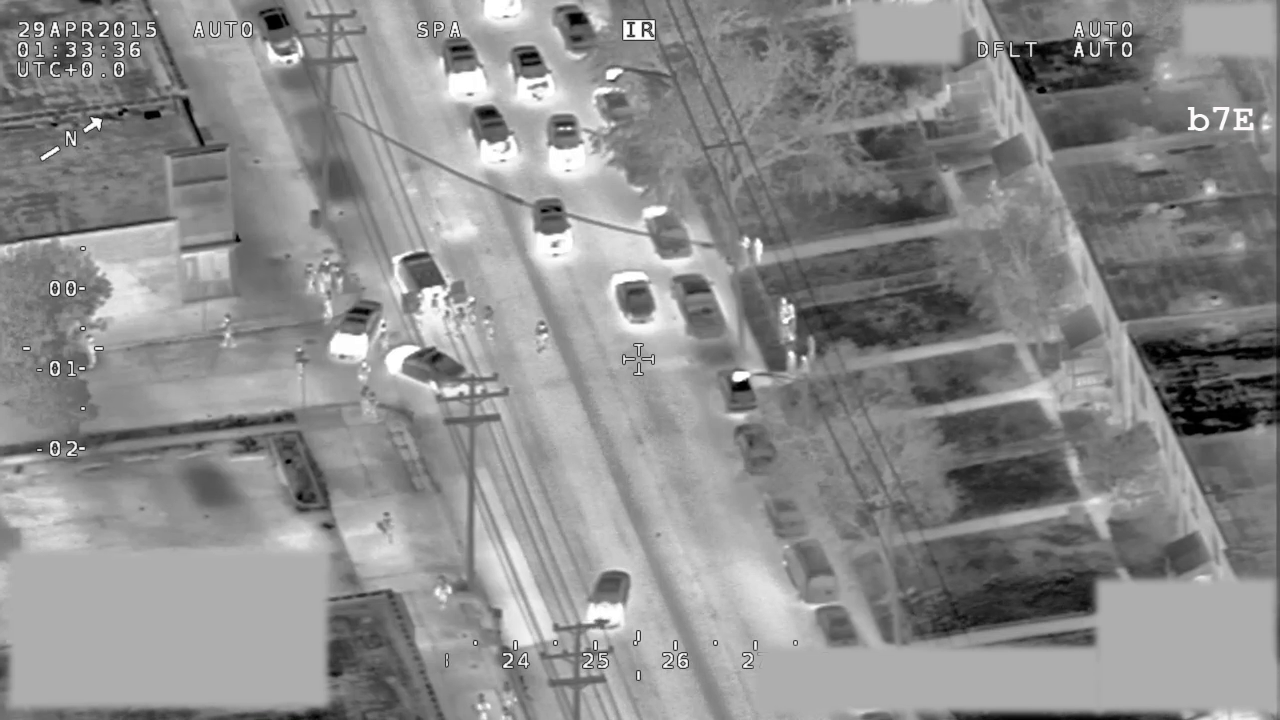vehicle: (386, 250, 471, 320), (382, 341, 475, 402), (670, 273, 732, 344), (326, 297, 387, 365), (782, 538, 843, 602), (437, 36, 493, 103), (469, 103, 519, 172), (255, 3, 307, 69), (583, 565, 633, 633), (642, 202, 694, 260), (532, 195, 577, 261), (732, 422, 785, 476), (610, 270, 657, 330), (510, 42, 556, 103), (552, 3, 604, 52), (548, 111, 584, 177), (757, 486, 804, 536), (715, 368, 763, 416), (590, 82, 639, 128), (815, 606, 862, 646), (480, 1, 521, 19)
